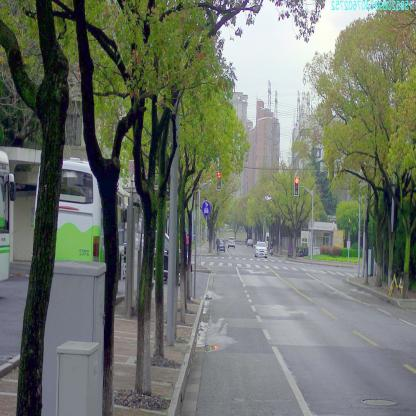traffic-light: (217, 171, 222, 190), (295, 177, 299, 196)
